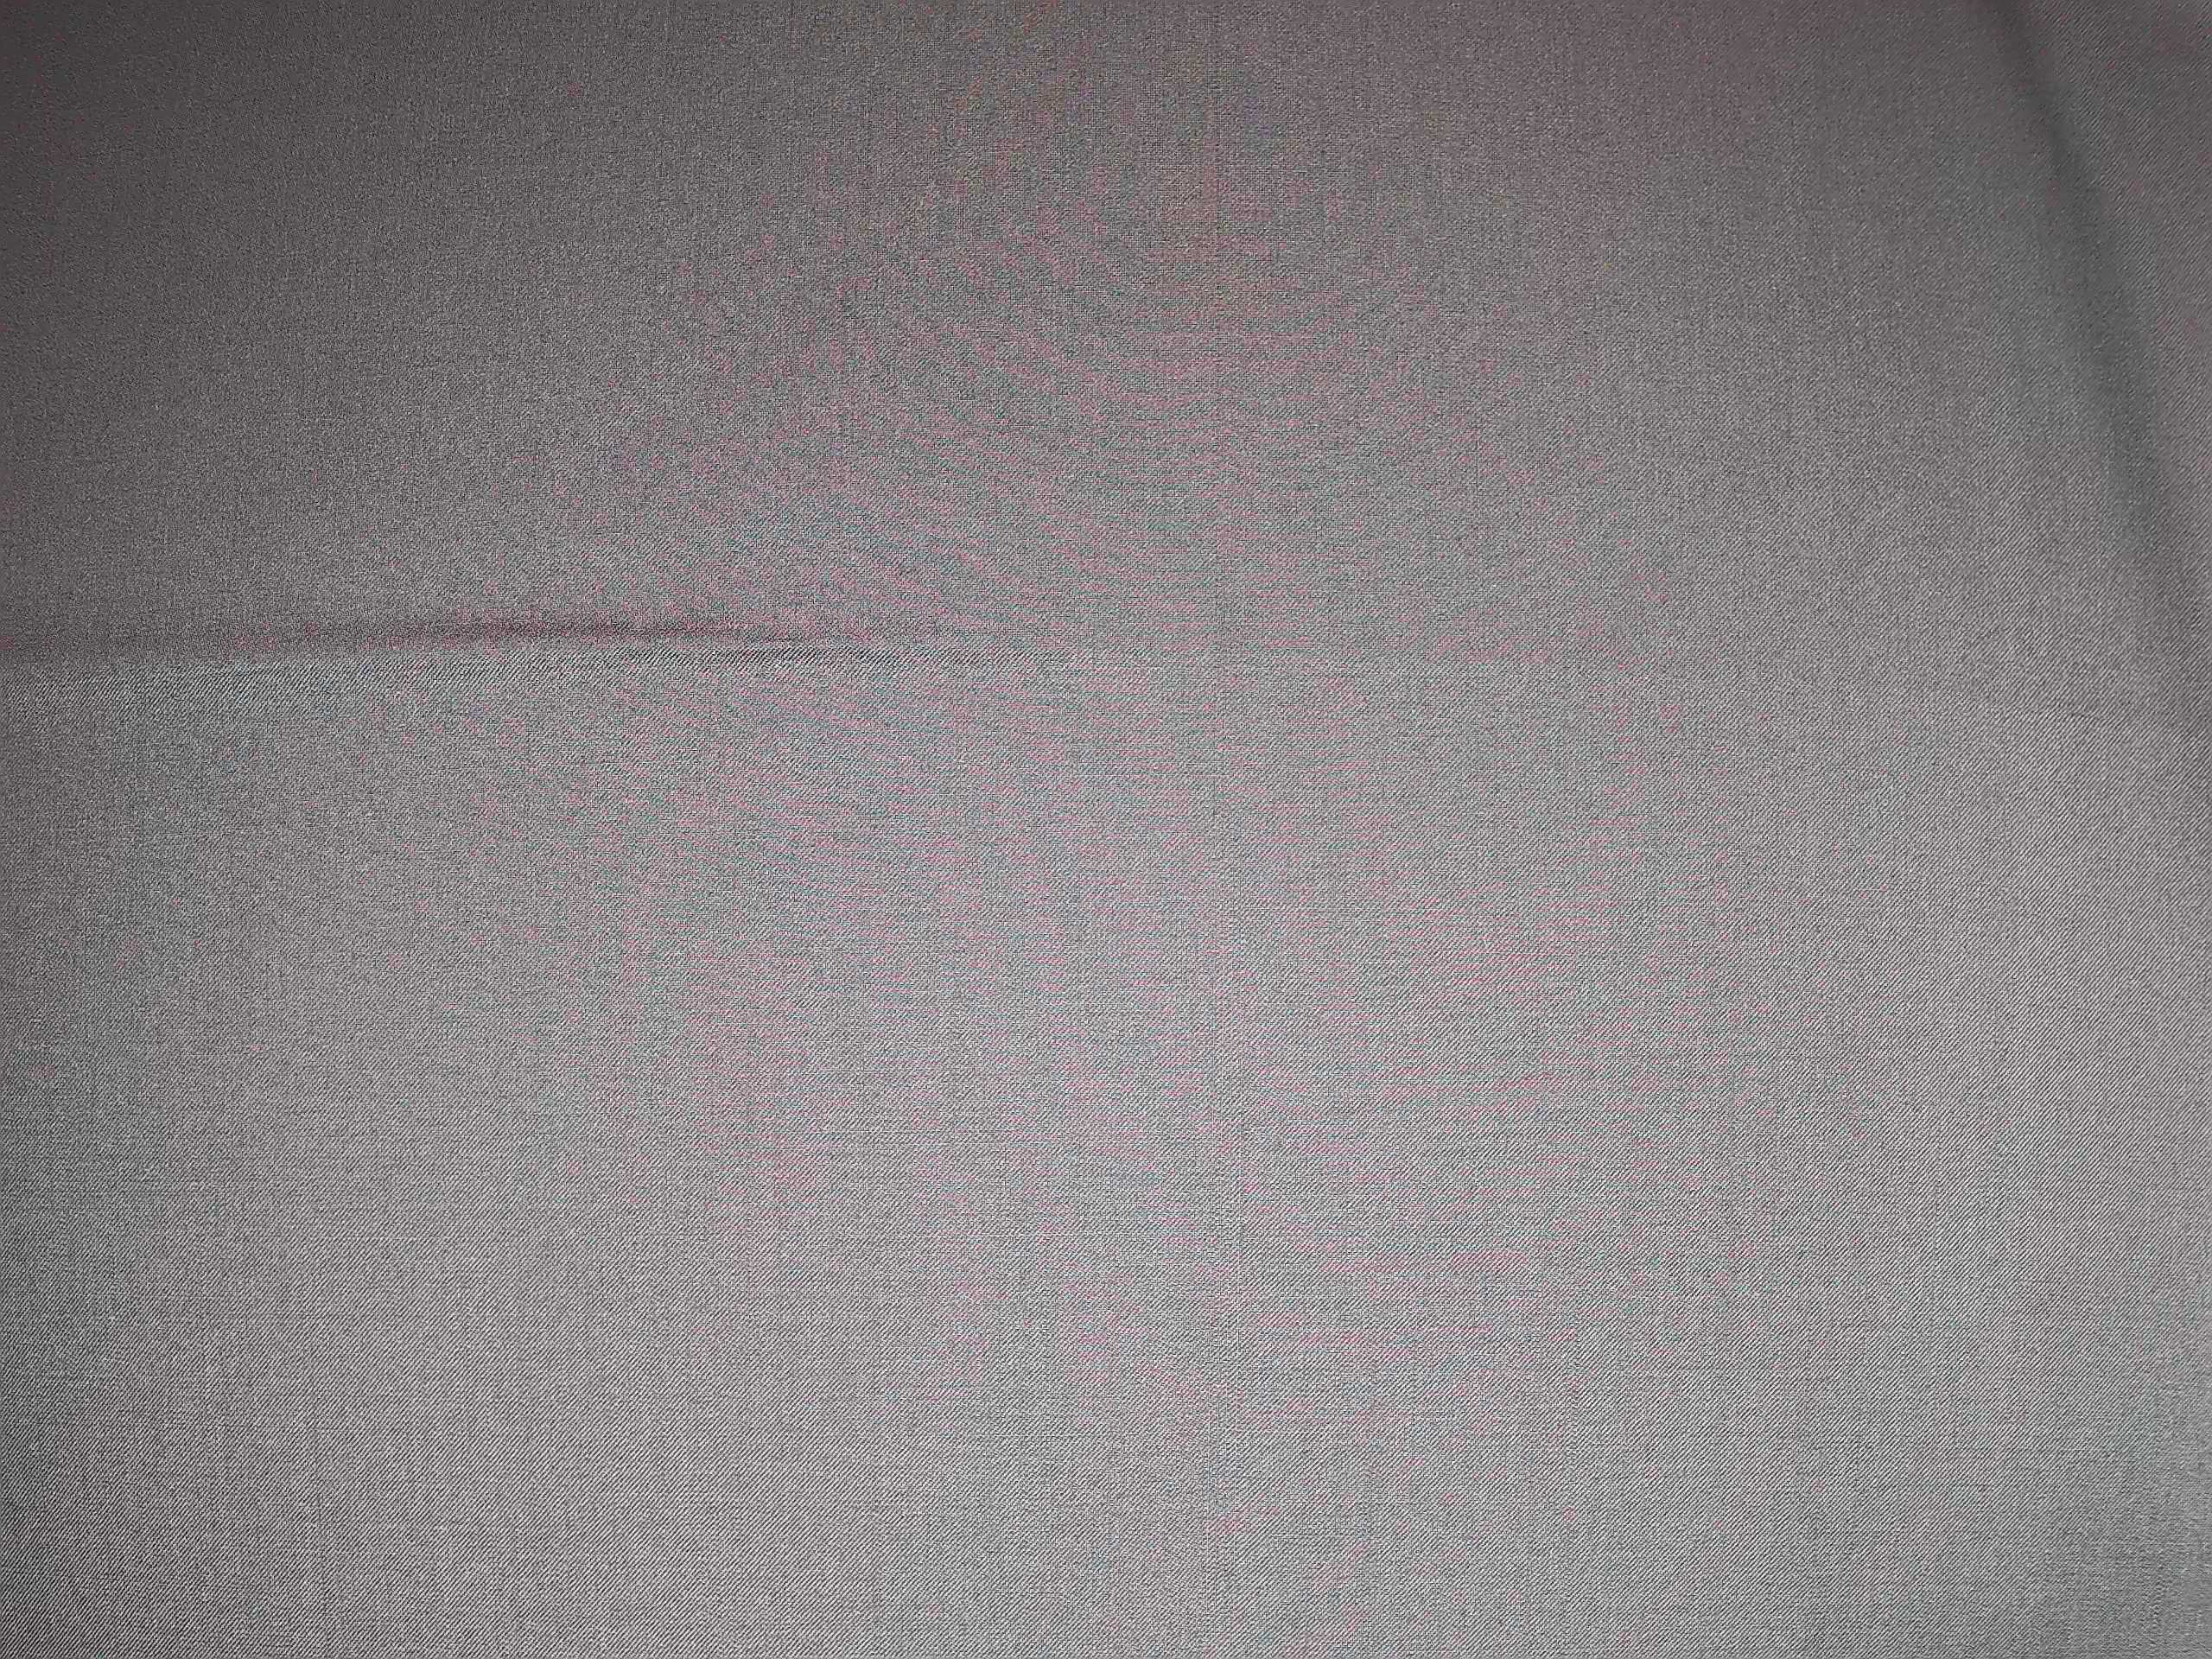hanging-warp: (1191, 5, 1249, 1652)
